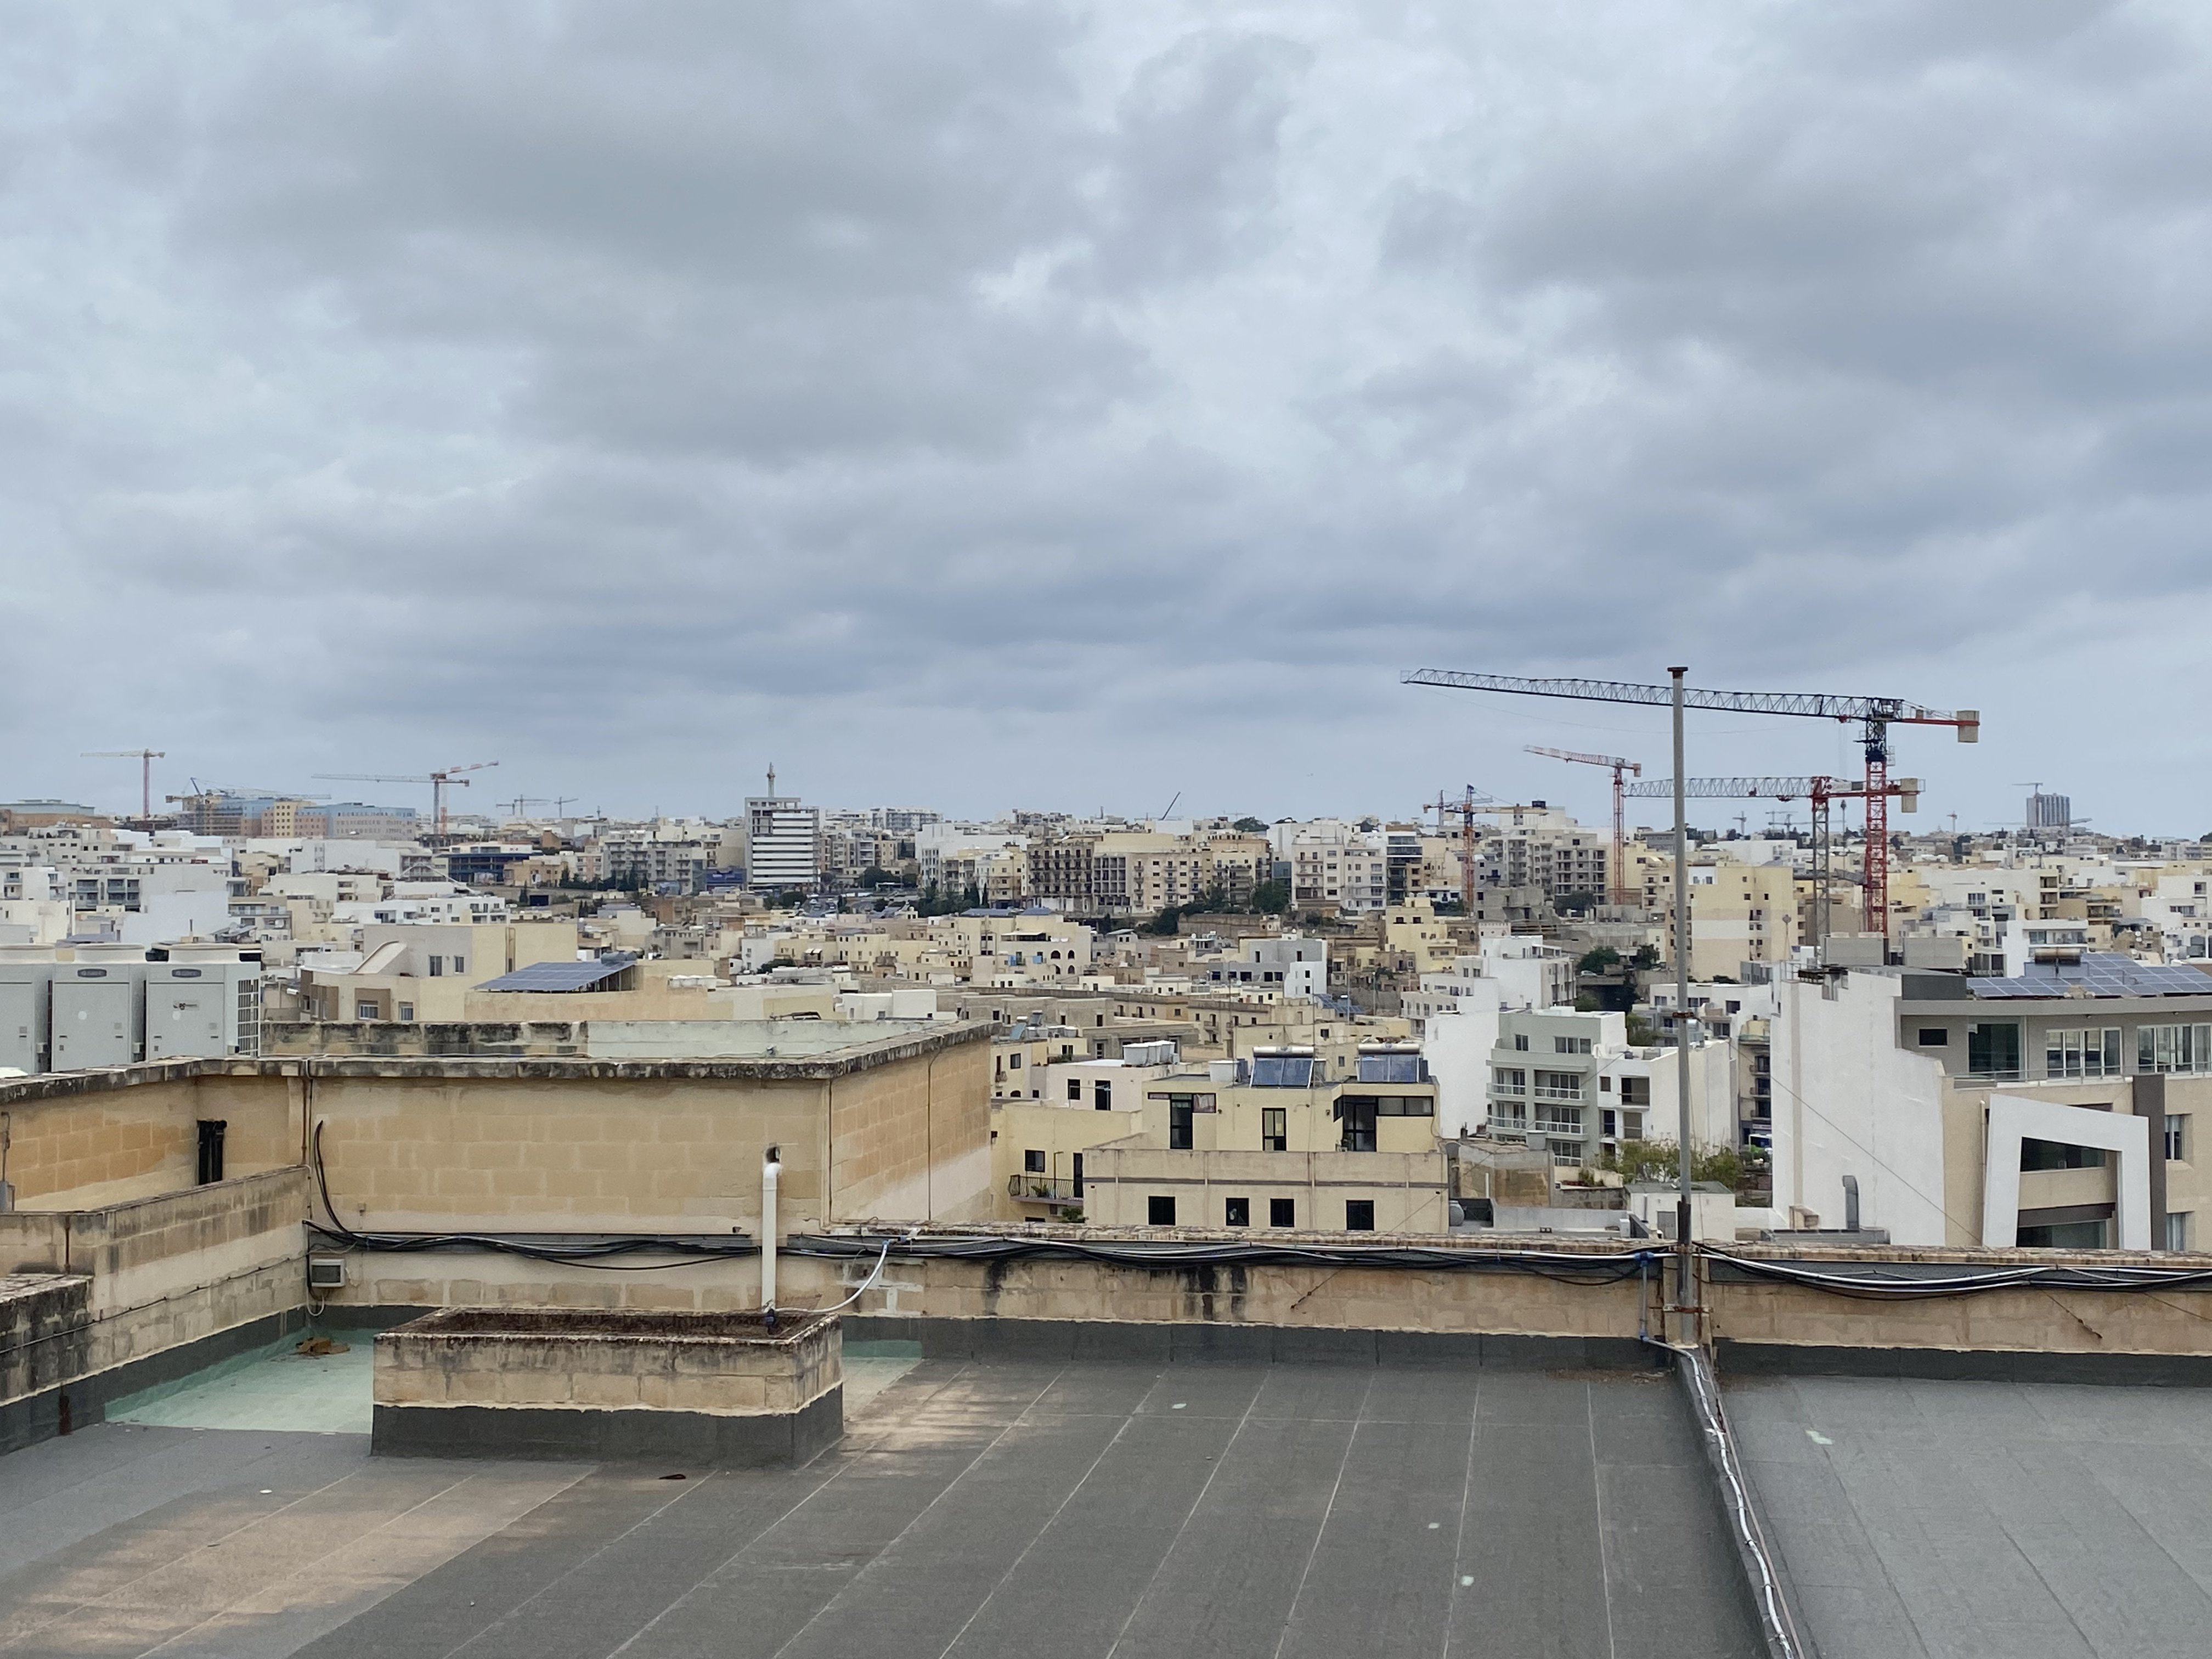crane: (1366, 638, 2015, 753), (1575, 763, 1959, 838), (1501, 718, 1649, 795)
